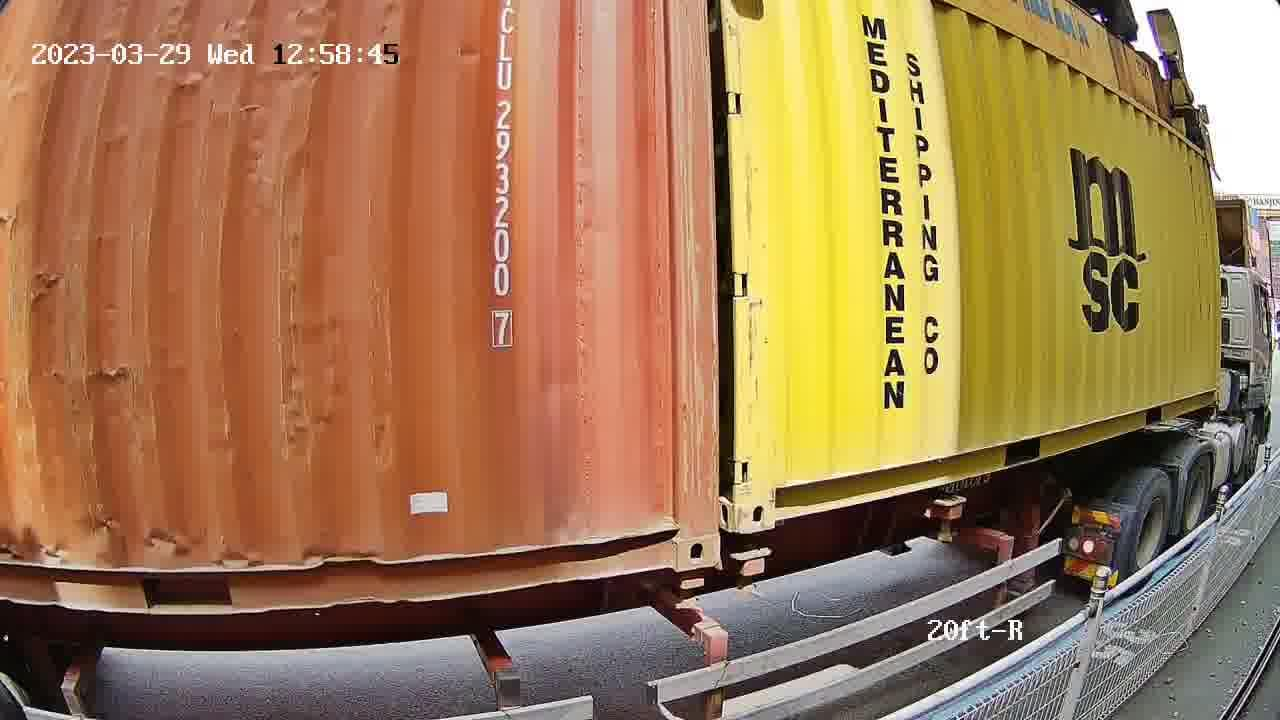Cone: (732, 530, 773, 595), (666, 567, 716, 603)
Hole_L: (736, 440, 811, 531)
Hole_R: (629, 493, 720, 572)
Tire: (1122, 475, 1172, 590), (1182, 456, 1214, 545)
